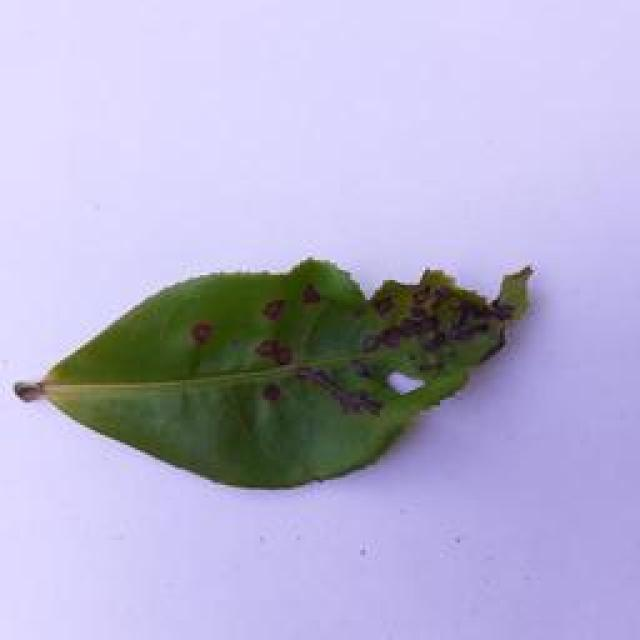Helopeltis: (14, 249, 580, 496)
